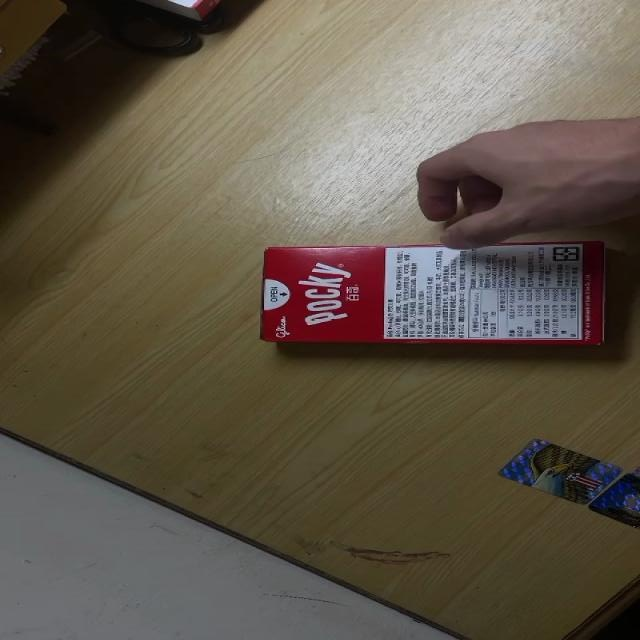Pocky: (260, 238, 608, 346)
